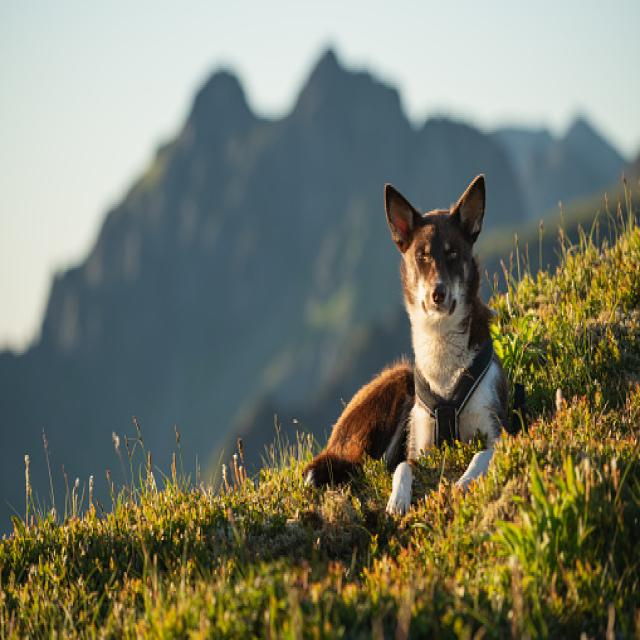husky: (372, 143, 492, 347)
